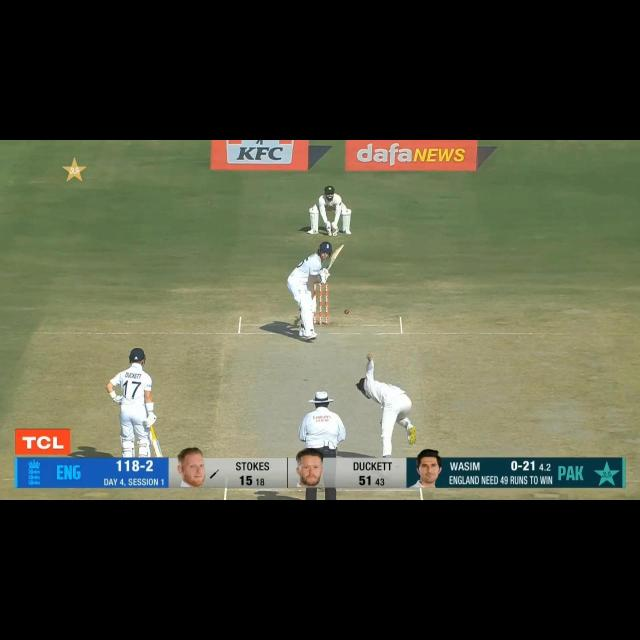bat: (325, 243, 344, 275), (149, 436, 163, 458)
toe: (332, 244, 345, 260)
